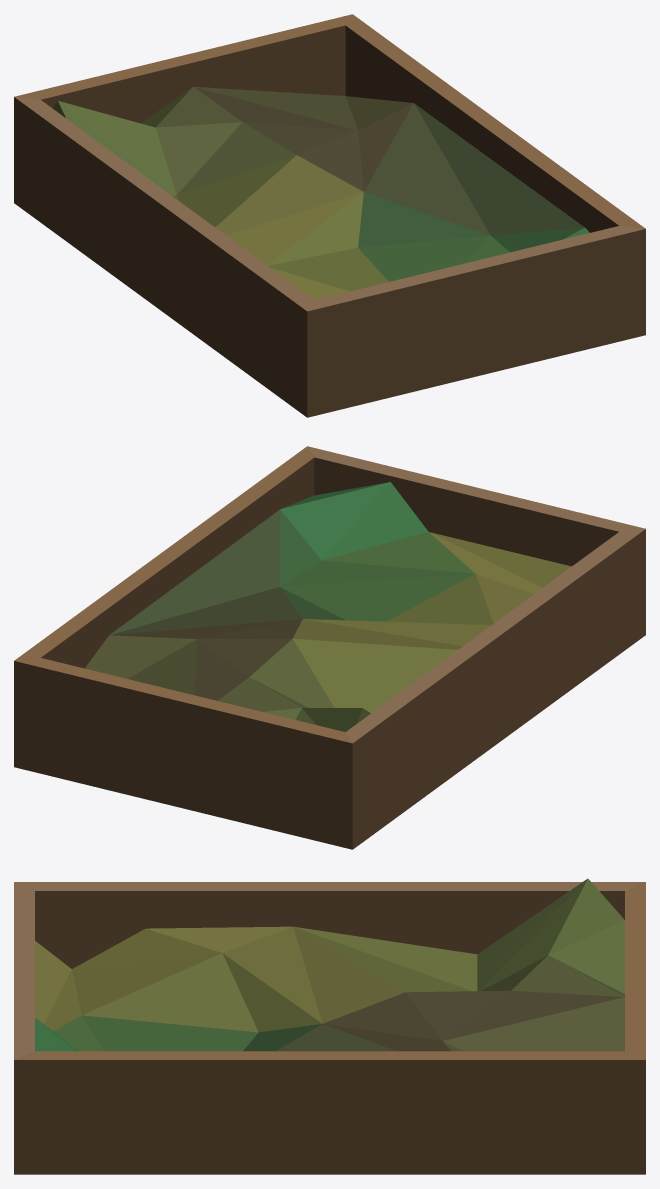
Rendered from Prop_FoodBoxLOD1.fbx.
3 renders of one model, top to bottom at view 1: azimuth 30°, elevation 25°; view 2: azimuth 150°, elevation 25°; view 3: azimuth 270°, elevation 25°, orthographic. The views are drawn at different scales.
Visible parts, largest first — view 1: Prop_FoodBoxLOD1; view 2: Prop_FoodBoxLOD1; view 3: Prop_FoodBoxLOD1.
Part boxes in pixels (x1=…): Prop_FoodBoxLOD1: x1=14, y1=14, x2=645, y2=417; Prop_FoodBoxLOD1: x1=14, y1=446, x2=645, y2=849; Prop_FoodBoxLOD1: x1=14, y1=878, x2=645, y2=1174.
Size of the model in its own units: 50 by 16.65 by 75.
